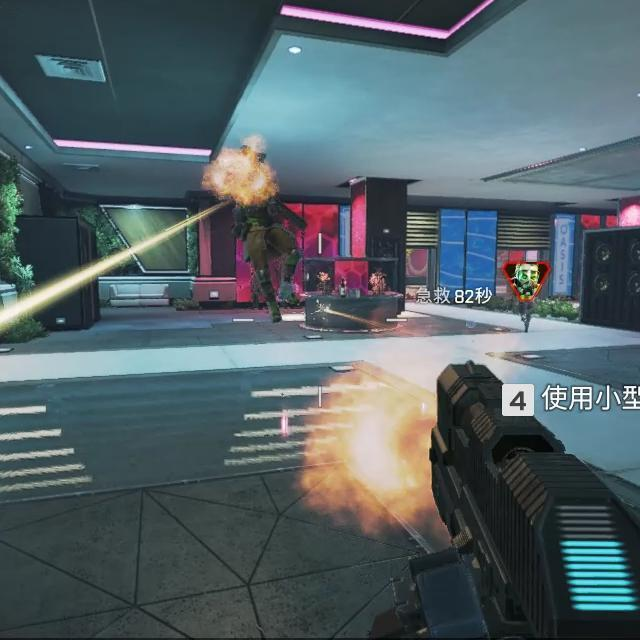avatar: (231, 146, 307, 326)
object: (202, 145, 278, 206)
